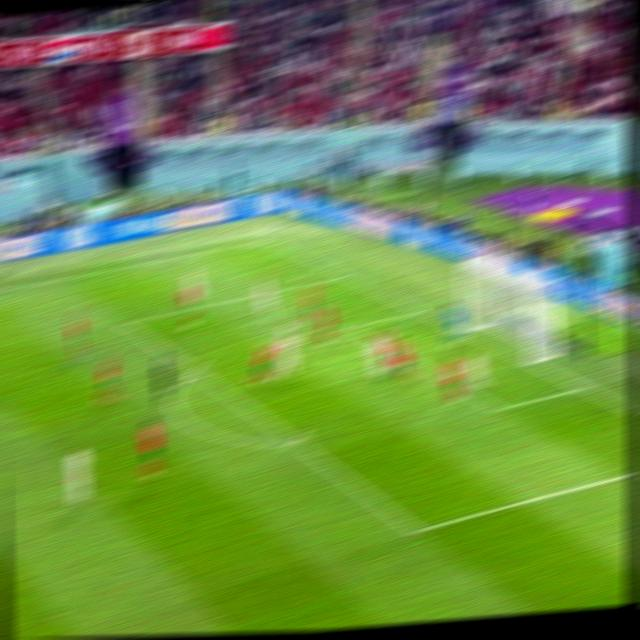bigarea_bottom_inner: (401, 515, 431, 544)
bigarea_top_inner: (113, 311, 137, 332)
bigarea_top_outter: (332, 266, 356, 283)
bottom_arc_area_intersection: (284, 432, 309, 455)
corner: (254, 233, 278, 246)
smallarea_bottom_inner: (484, 395, 511, 420)
smallarea_bottom_outter: (571, 376, 596, 398)
smallarea_top_inner: (335, 316, 360, 338)
smallarea_top_outter: (409, 300, 433, 320)
top_arc_area_intersection: (182, 362, 208, 380)
